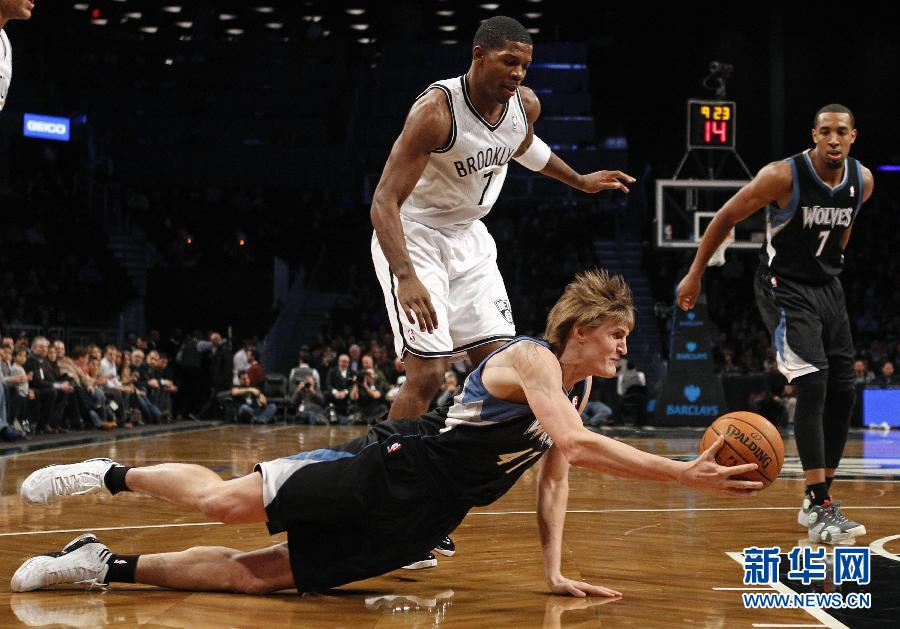10+: (1, 16, 895, 536)
down: (1, 281, 653, 603)
